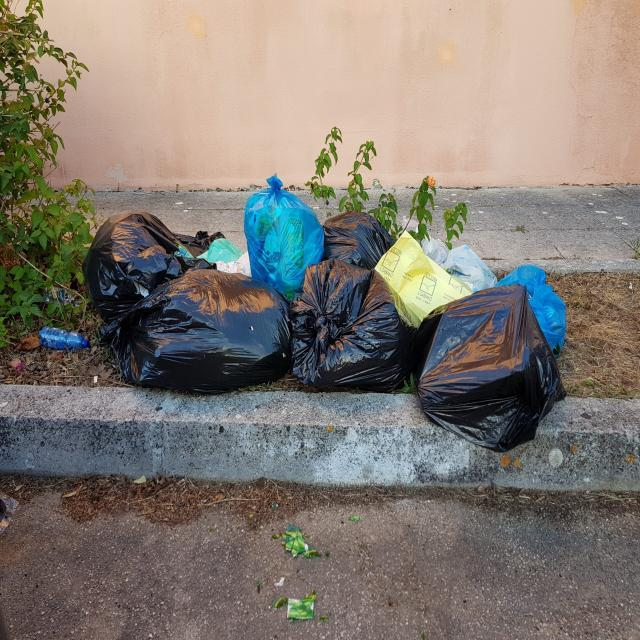garbage: (34, 163, 573, 452)
